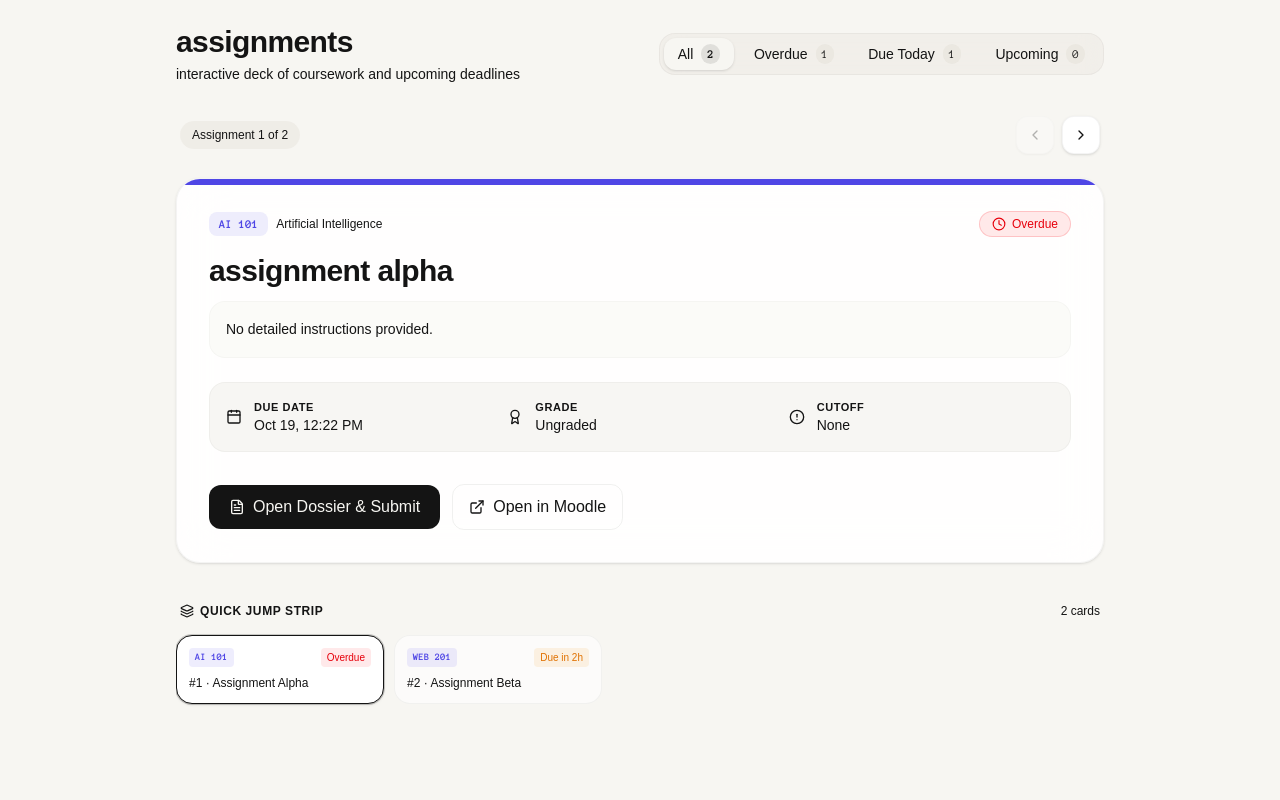
AssignmentsPage › opens dossier drawer when Open Dossier button is clicked
Expected: the heading "Assignment Alpha" is shown, [209, 254, 453, 287]
What coordinates should you click on to do the following:
click the button "Open Dossier & Submit"
I would click on:
 (325, 507)
Its box is [209, 485, 440, 529].
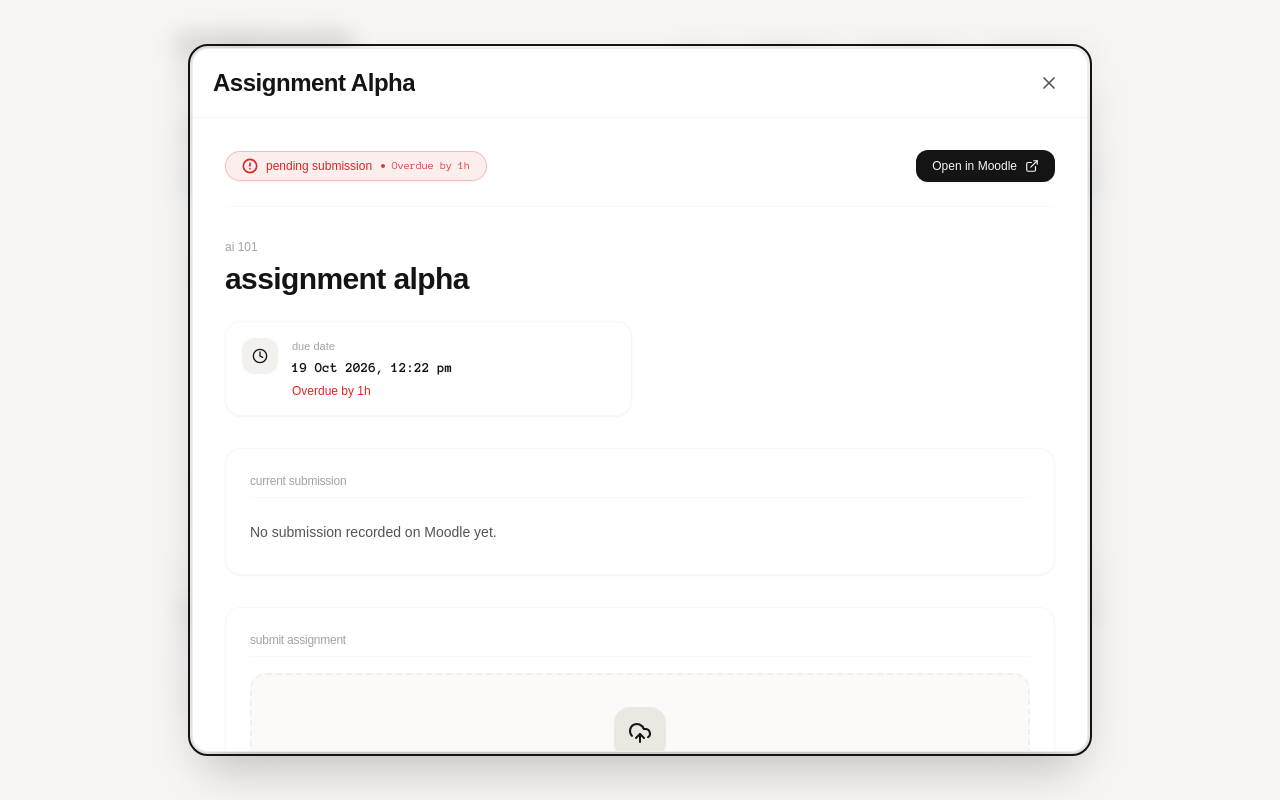
Expected: the dialog is shown
